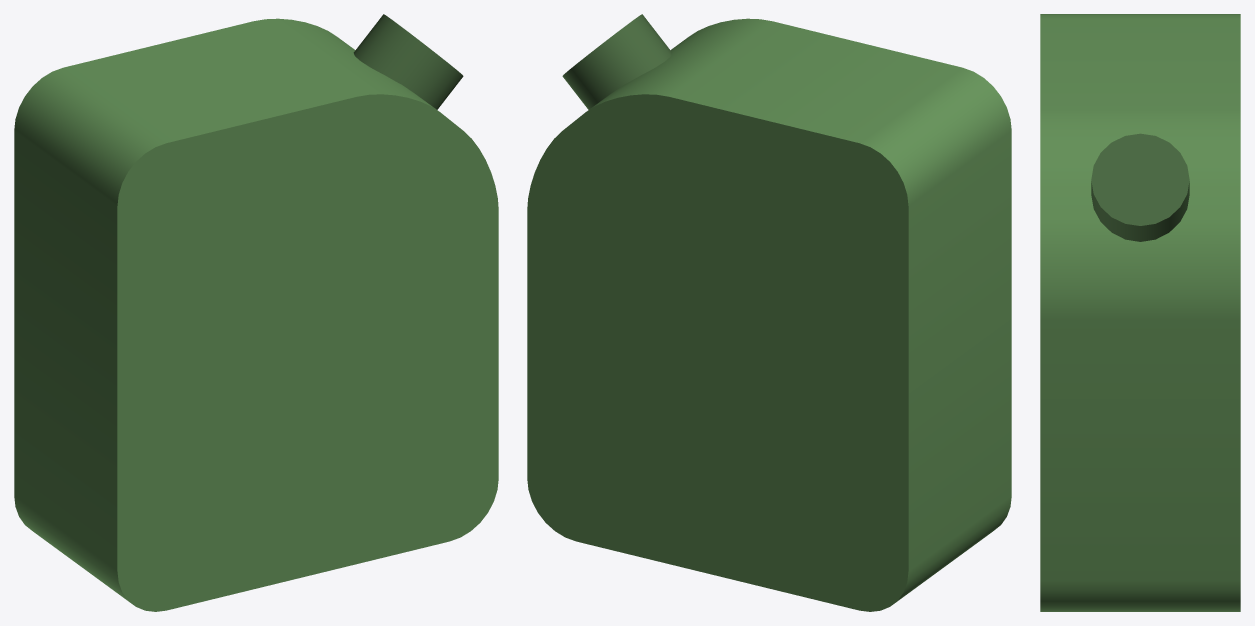
File: Сanister.fbx
3 renders of one model, left to right at view 1: azimuth 30°, elevation 25°; view 2: azimuth 150°, elevation 25°; view 3: azimuth 270°, elevation 25°, orthographic. The views are drawn at different scales.
Visible parts, largest first — view 1: Сanister; view 2: Сanister; view 3: Сanister.
Part boxes in pixels (left/top/right/bottom): Сanister: left=14, top=14, right=498, bottom=611; Сanister: left=527, top=14, right=1011, bottom=611; Сanister: left=1040, top=14, right=1240, bottom=611.
Size of the model in its own units: 0.6322 by 0.7534 by 0.2907.
